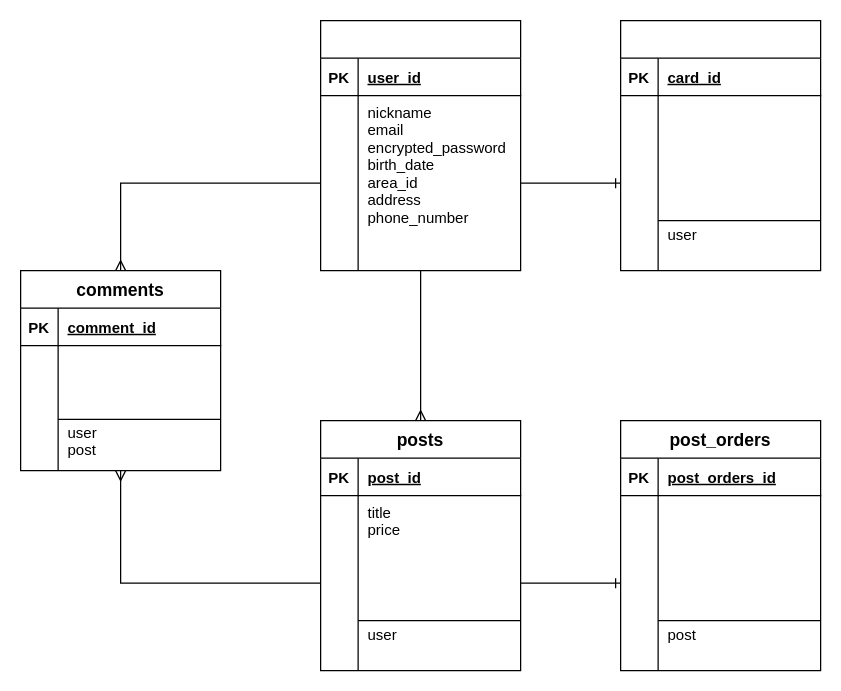
This 841x691 diagram has some shape labels left out. The box of each missing label's shape, as (x1, y1, x2, y2) in pixels:
cards: (619, 19, 821, 271)
users: (319, 19, 521, 271)
